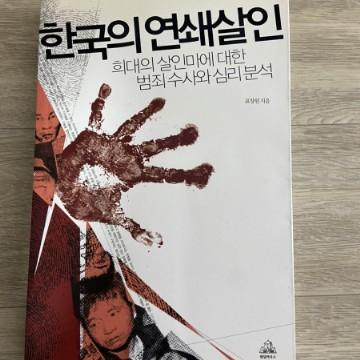book: (24, 0, 296, 359)
